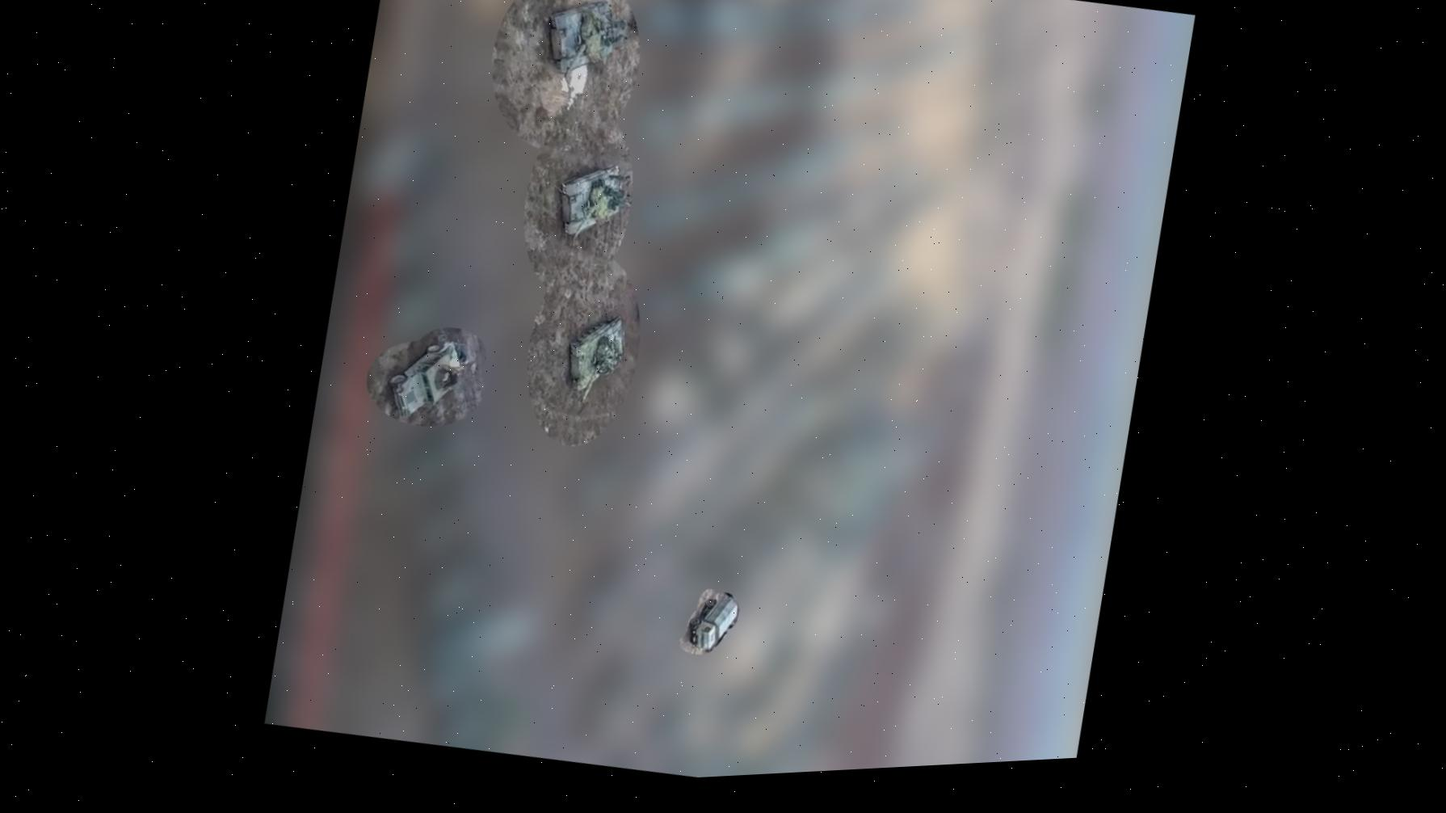armored_car: (383, 331, 468, 427)
tank: (548, 152, 635, 253), (536, 0, 629, 87), (558, 308, 629, 408)
truck: (684, 587, 740, 656)
